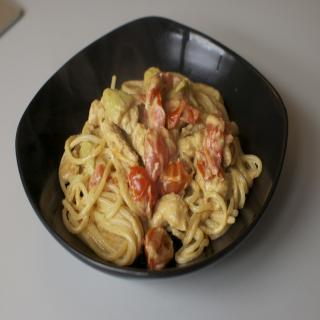Pasta: (59, 69, 265, 265)
